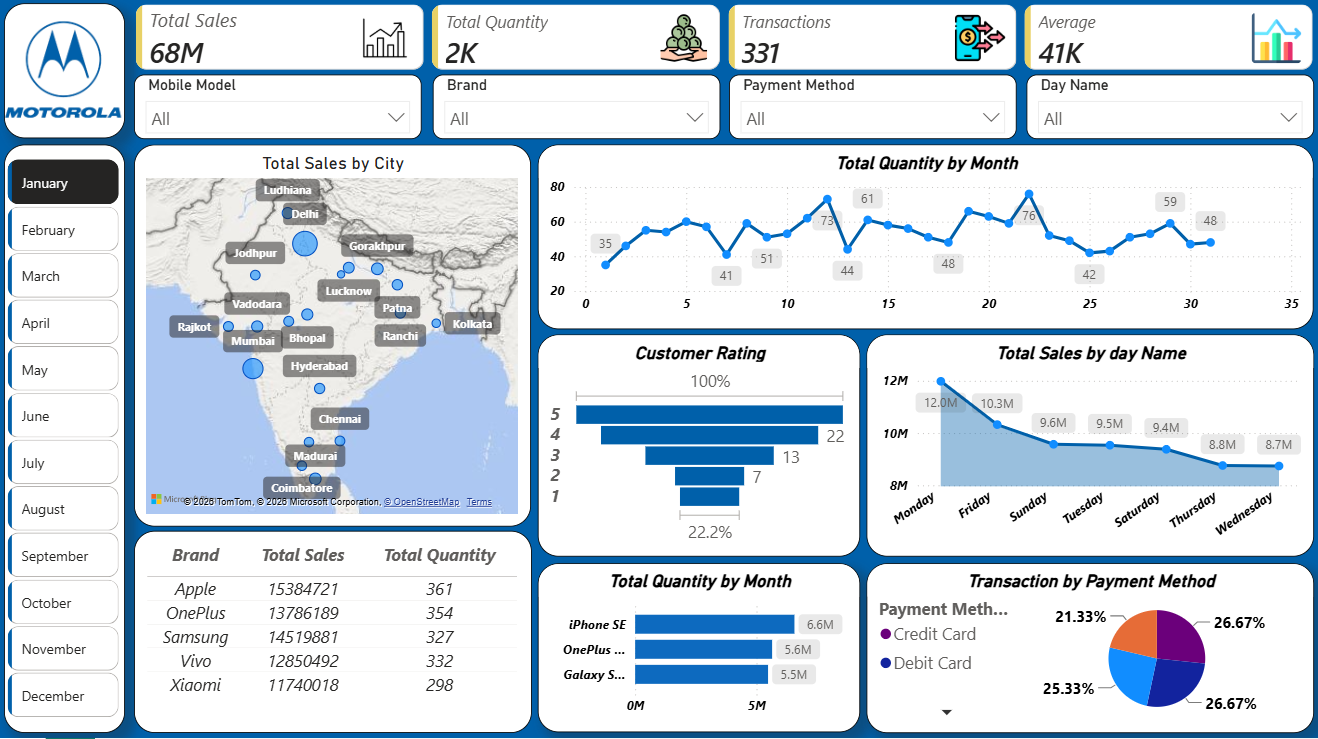

What the dashboard file says about the page in this screenshot:
{"tool":"powerbi","page":{"name":"Page 1","canvas":[1280,720],"ordinal":0},"visuals":[{"type":"shape","box":[4.8,10.9,117,130.3],"z":0},{"type":"image","box":[6,9.7,112.2,130.3],"z":1000},{"type":"shape","box":[4.8,147.2,117,568.2],"z":2000},{"type":"advancedSlicerVisual","fields":{"Values":["Mobile_Sales_Data.Date.Variation.Date Hierarchy.Month"]},"box":[3.6,156.8,117,558.6],"z":3000},{"type":"cardVisual","fields":{"Data":["Mobile_Sales_Data.Total Sales","Mobile_Sales_Data.Total Quantity","Mobile_Sales_Data.Transactions","Mobile_Sales_Data.Average"]},"box":[105,0,1175.1,107.4],"z":4000},{"type":"map","fields":{"Category":["Mobile_Sales_Data.City"],"Size":["Mobile_Sales_Data.Total Sales"]},"box":[130.3,147.2,382.8,369.1],"z":5000},{"type":"lineChart","title":"Total Quantity by Month","fields":{"Y":["Mobile_Sales_Data.Total Quantity"],"Category":["Mobile_Sales_Data.Date.Variation.Date Hierarchy.Month","Mobile_Sales_Data.Date.Variation.Date Hierarchy.Day"]},"box":[520,147.2,749.2,178.6],"z":6000},{"type":"clusteredBarChart","title":"Total Quantity by Month","fields":{"Category":["Mobile_Sales_Data.Mobile Model"],"Y":["Mobile_Sales_Data.Total Sales"]},"box":[520.1,551.6,311.5,163.3],"z":7000},{"type":"pieChart","title":"Transaction by Payment Method ","fields":{"Category":["Mobile_Sales_Data.Payment Method"],"Y":["Mobile_Sales_Data.Transactions"]},"box":[837.3,551.3,431.9,164.1],"z":8000},{"type":"funnel","title":"Customer Rating","fields":{"Category":["Mobile_Sales_Data.Customer Ratings"],"Y":["CountNonNull(Mobile_Sales_Data.Customer Ratings)"]},"box":[520.1,330.7,311.5,214.1],"z":9000},{"type":"areaChart","title":"Total Sales by day Name","fields":{"Y":["Mobile_Sales_Data.Total Sales"],"Category":["Mobile_Sales_Data.Day Name"]},"box":[837.3,330.6,431.9,214.7],"z":10000},{"type":"tableEx","fields":{"Values":["Mobile_Sales_Data.Brand","Mobile_Sales_Data.Total Sales","Mobile_Sales_Data.Total Quantity"]},"box":[130.3,520,383.6,195.4],"z":11000},{"type":"slicer","fields":{"Values":["Mobile_Sales_Data.Mobile Model"]},"box":[130.3,79.6,277.5,62.7],"z":12000},{"type":"slicer","fields":{"Values":["Mobile_Sales_Data.Brand"]},"box":[418.6,79.6,277.5,62.7],"z":13000},{"type":"slicer","fields":{"Values":["Mobile_Sales_Data.Payment Method"]},"box":[704.6,79.6,277.5,62.7],"z":14000},{"type":"slicer","fields":{"Values":["Mobile_Sales_Data.Day Name"]},"box":[991.7,79.6,277.5,62.7],"z":15000}]}

Visuals, with their boxes in screenshot pixels (x1, y1, x2, y2), scaled from the page's 1280x720 canvas onto the 1318x739 screenshot:
shape: [5,11,125,145]
image: [6,10,122,144]
shape: [5,151,125,734]
advancedSlicerVisual - Mobile_Sales_Data.Date.Variation.Date Hierarchy.Month: [4,161,124,734]
cardVisual - Mobile_Sales_Data.Total Sales x Mobile_Sales_Data.Total Quantity: [108,0,1317,110]
map - Mobile_Sales_Data.City x Mobile_Sales_Data.Total Sales: [134,151,528,530]
"Total Quantity by Month" lineChart: [535,151,1307,334]
"Total Quantity by Month" clusteredBarChart: [536,566,856,734]
"Transaction by Payment Method " pieChart: [862,566,1307,734]
"Customer Rating" funnel: [536,339,856,559]
"Total Sales by day Name" areaChart: [862,339,1307,560]
tableEx - Mobile_Sales_Data.Brand x Mobile_Sales_Data.Total Sales: [134,534,529,734]
slicer - Mobile_Sales_Data.Mobile Model: [134,82,420,146]
slicer - Mobile_Sales_Data.Brand: [431,82,717,146]
slicer - Mobile_Sales_Data.Payment Method: [726,82,1011,146]
slicer - Mobile_Sales_Data.Day Name: [1021,82,1307,146]
